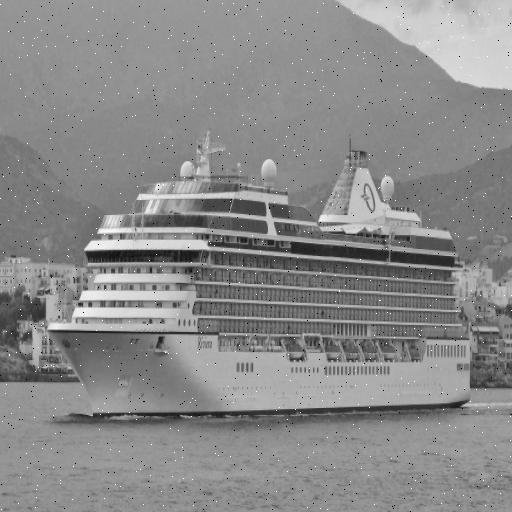cruises: (43, 123, 476, 427)
